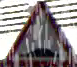Speed Breaker ahead: (2, 0, 74, 66)
